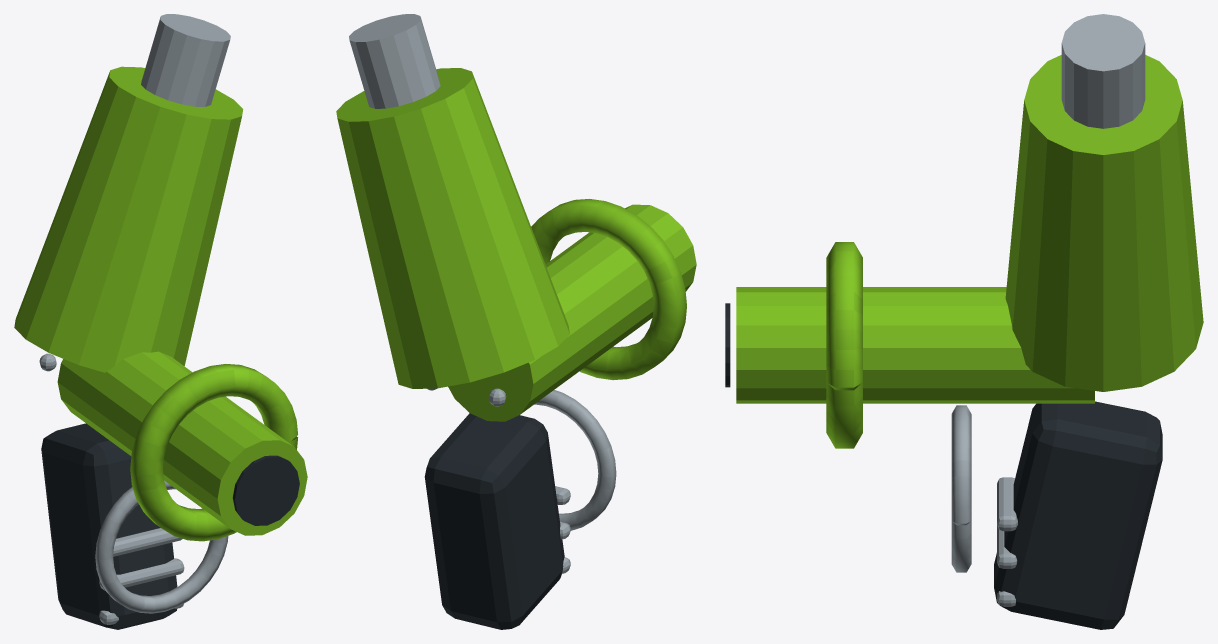
File: sick-ray.glb
3 renders of one model, left to right at view 1: azimuth 30°, elevation 25°; view 2: azimuth 150°, elevation 25°; view 3: azimuth 270°, elevation 25°, orthographic. The views are drawn at different scales.
Visible parts, largest first — view 1: barrel; view 2: barrel; view 3: barrel.
Part boxes in pixels (bbox=[...]): barrel: bbox=[14, 14, 307, 629]; barrel: bbox=[336, 14, 696, 629]; barrel: bbox=[725, 14, 1203, 629].
Bounding box in the file's own units: 0.3339 × 0.8447 × 0.573.
